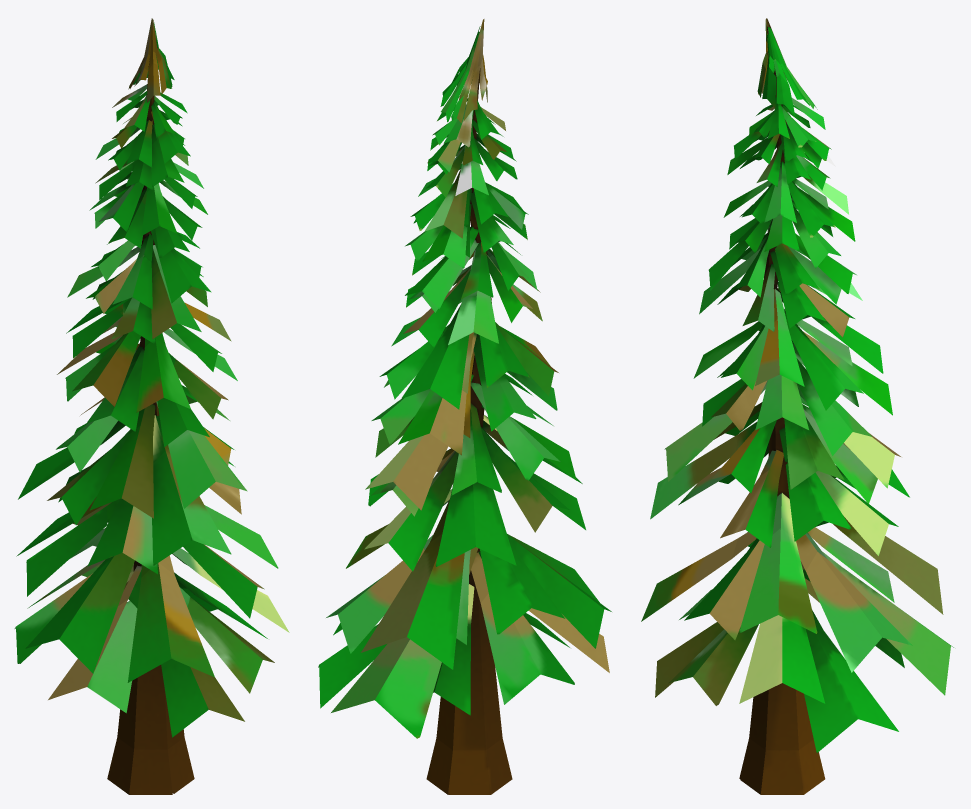
File: Tall Thin Pine Tree.fbx
3 renders of one model, left to right at view 1: azimuth 30°, elevation 25°; view 2: azimuth 150°, elevation 25°; view 3: azimuth 270°, elevation 25°, orthographic.
Visible parts, largest first — view 1: Tall Tine Pine Tree; view 2: Tall Tine Pine Tree; view 3: Tall Tine Pine Tree.
Boxes of the visible parts, x1,y1,x2,y2 form: Tall Tine Pine Tree: (14,18,289,794); Tall Tine Pine Tree: (318,19,611,794); Tall Tine Pine Tree: (641,18,953,794).
Bounding box in the file's own units: 1.56 × 4.39 × 1.65.
